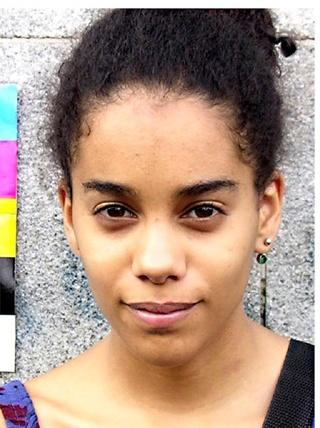No Mask: (44, 8, 302, 403)
